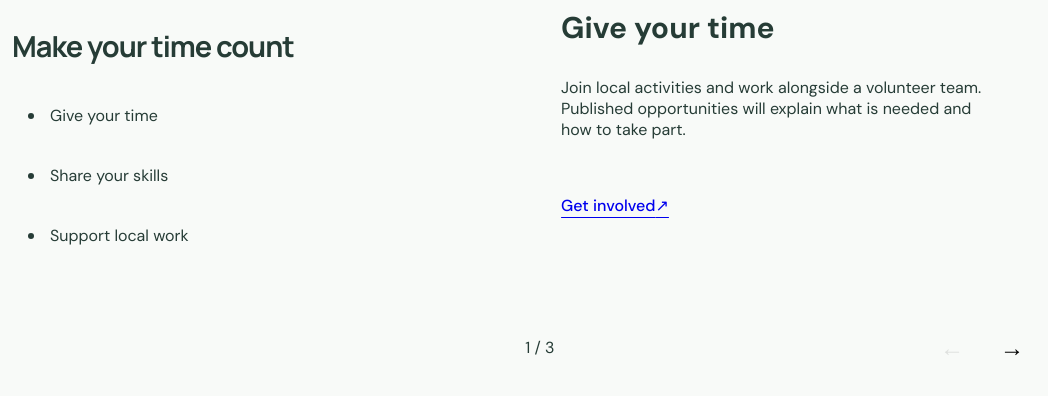
Test: only one panel is exposed; manual selection and keyboard controls change its paragraph
The image size is (1048, 396).
Expected: the button named "Previous step" is disabled, [928, 324, 976, 372]
Click the button "Share your skills" at (109, 176), box [12, 150, 474, 202]
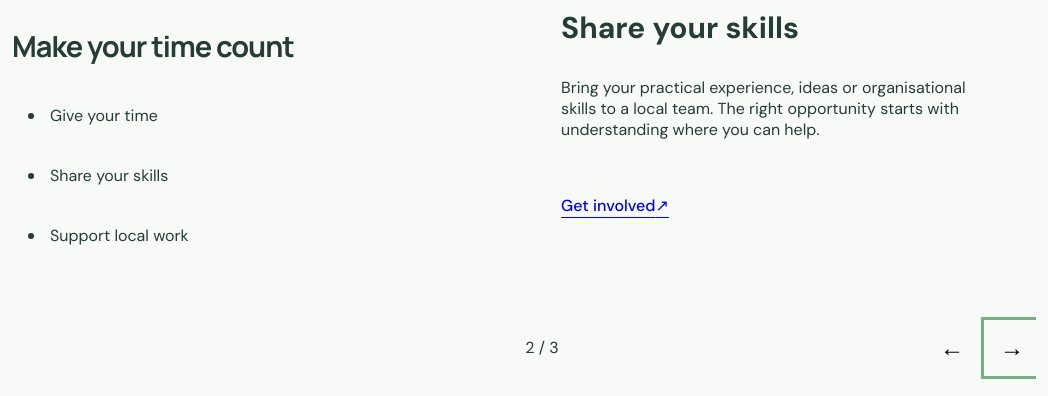
Result: the text "Bring your practical experience" is shown at [561, 77, 966, 140]
Result: the text "Join local activities and work alongside" is gone
Press Enter
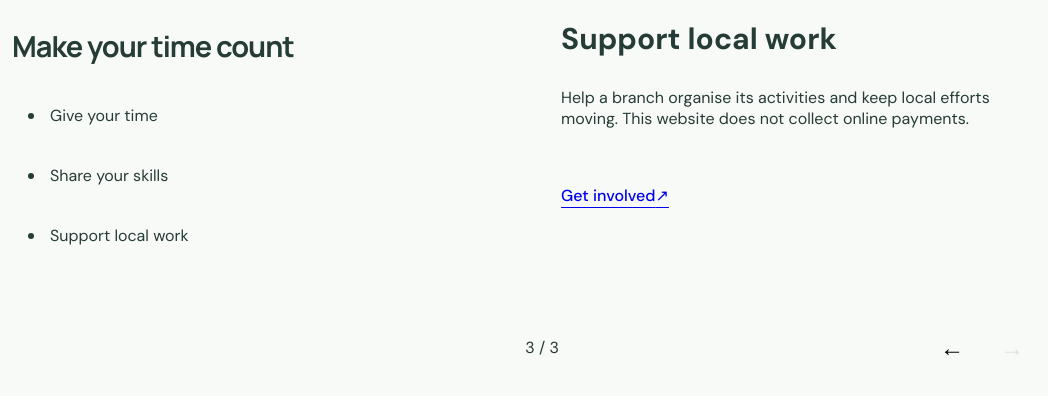
Result: the text "This website does not collect online payments" is shown at [561, 87, 990, 129]
Result: the button named "Next step" is disabled at [988, 324, 1036, 372]
